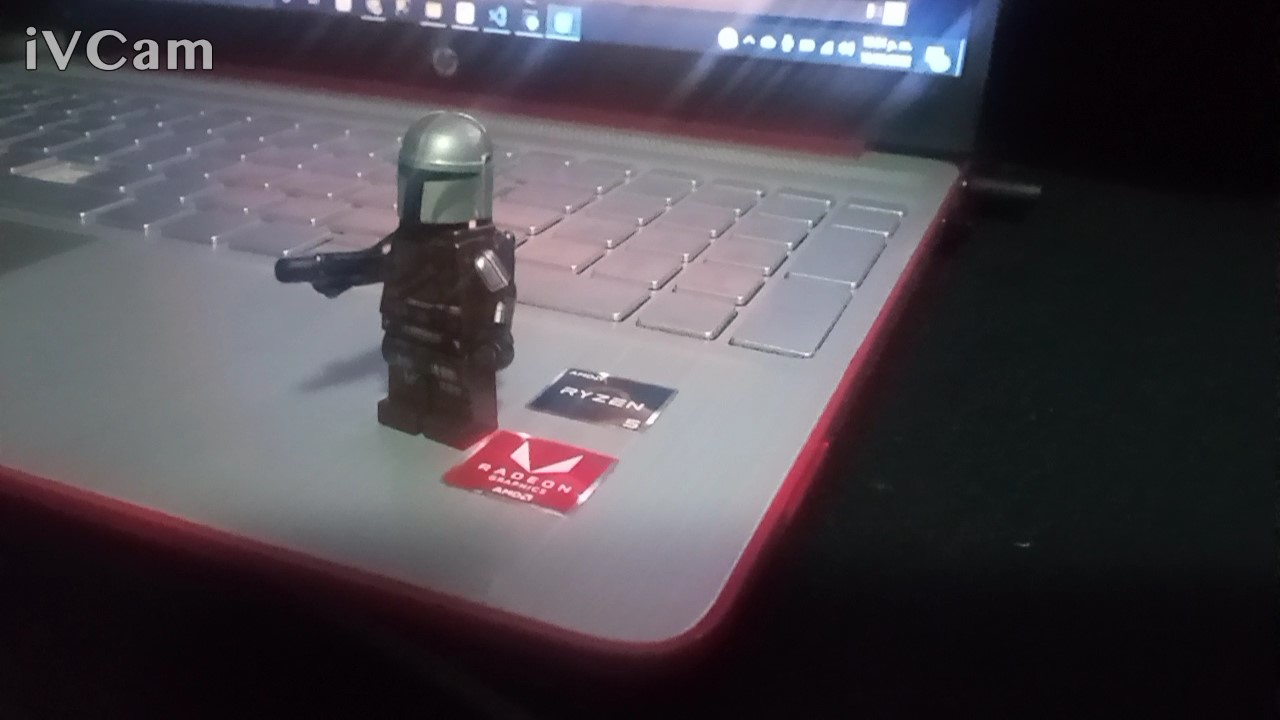mandalorian: (271, 105, 546, 445)
